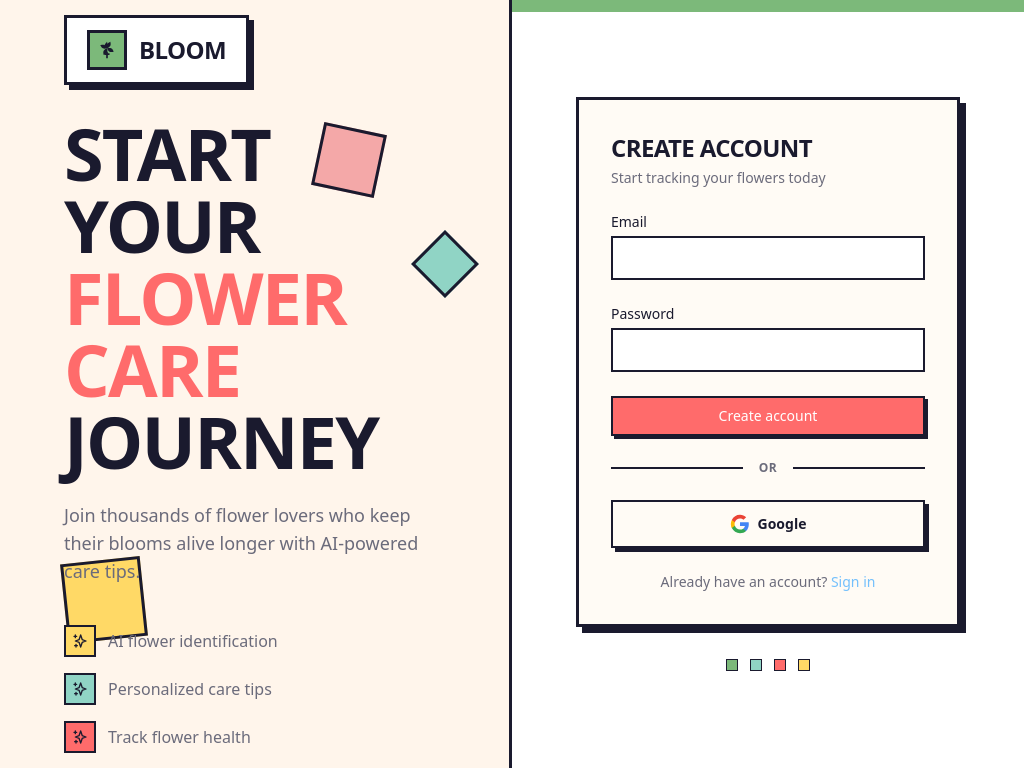
Test: SignupPage › shows loading state during submission
Type "user@example.com" into the field labelled "Email". click: (768, 258)
box: [611,236,925,280]
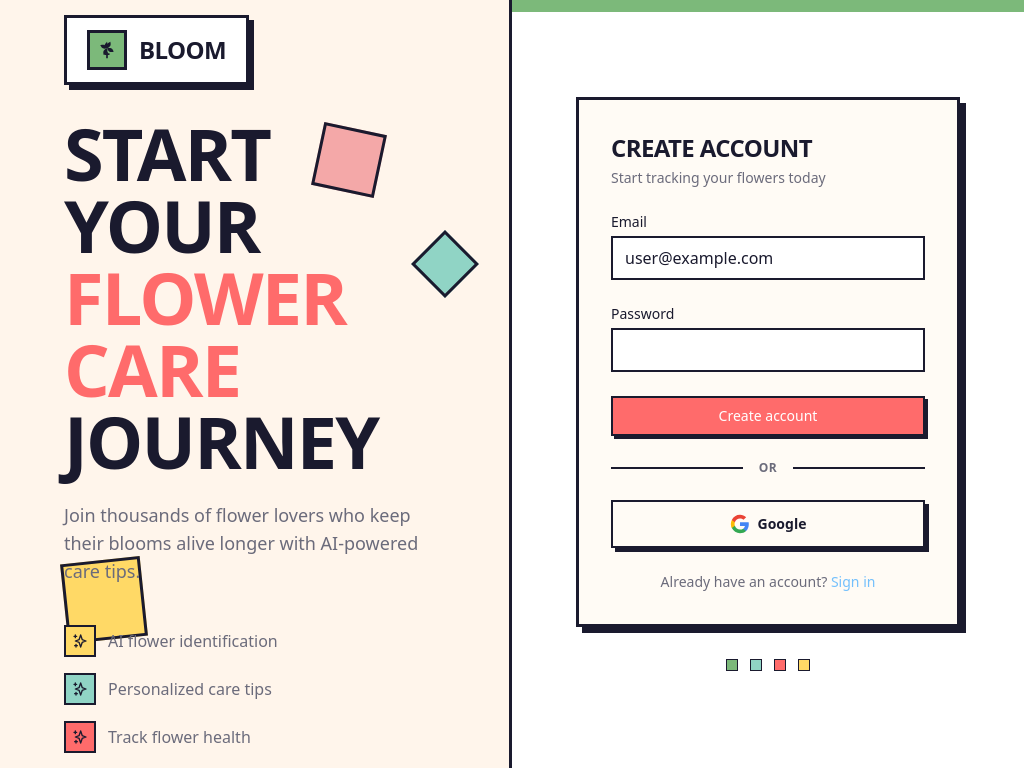
Type "password123" into the password field labelled "Password". click: (768, 350)
box: [611,328,925,372]
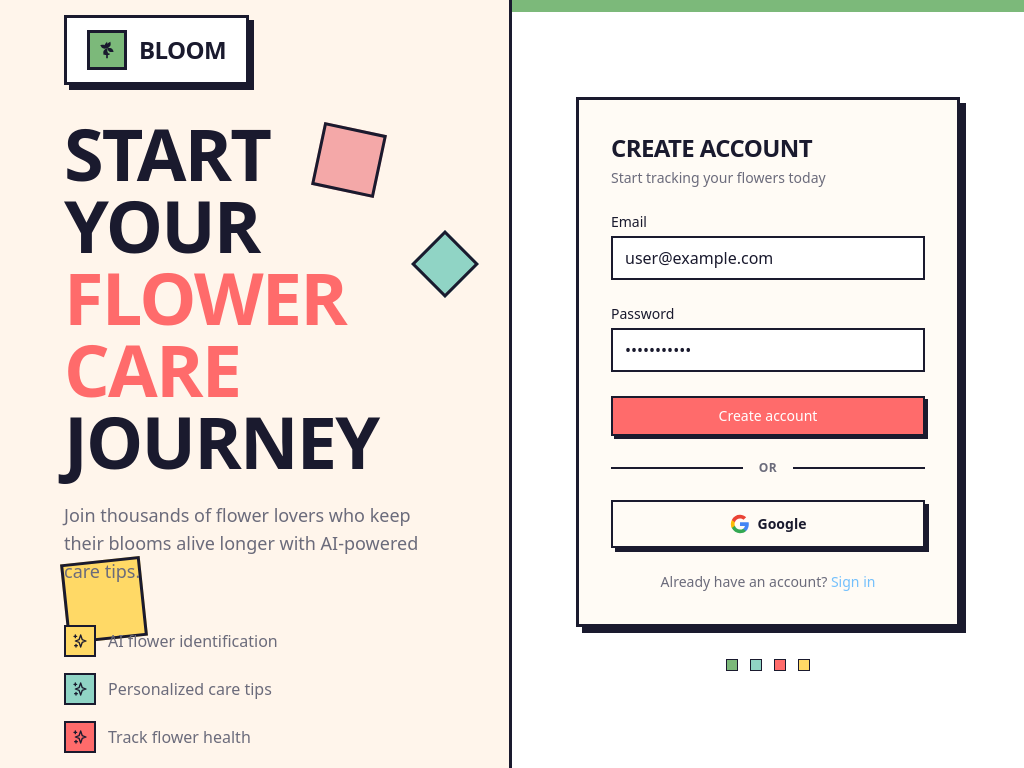
Click the button "Create account". click: (768, 416)
box: [611,396,925,436]
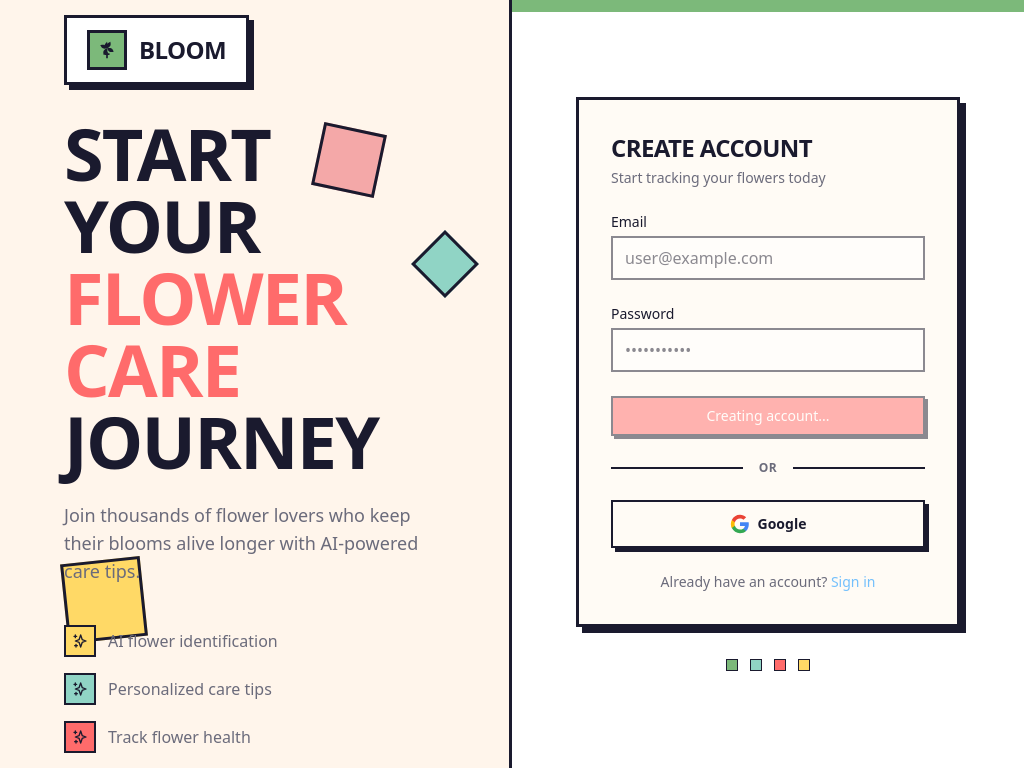
Expected: the button "Creating account..." is disabled, [611,396,925,436]
